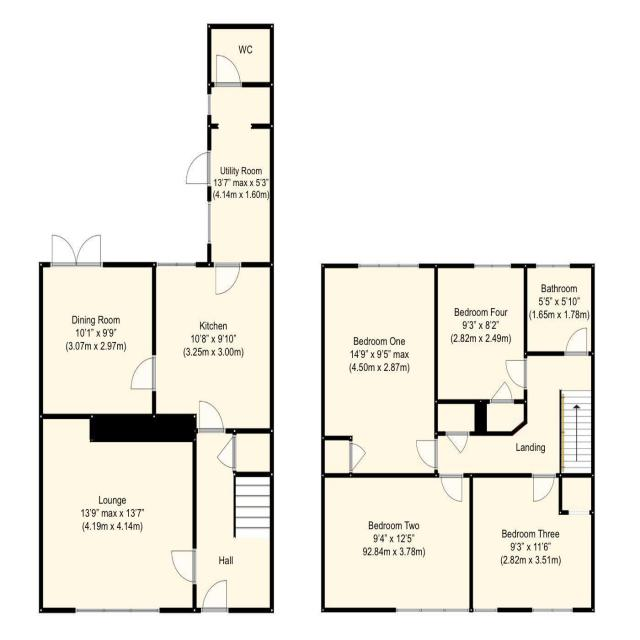DOOR: (170, 547, 197, 586), (185, 148, 211, 188), (130, 354, 157, 392), (200, 579, 229, 613), (213, 261, 242, 295), (214, 54, 243, 88), (198, 400, 226, 433), (530, 472, 557, 503), (563, 326, 589, 357), (505, 356, 528, 391), (415, 437, 438, 471), (438, 473, 464, 503)
DOUBLE DOOR: (50, 233, 103, 267)
ROOM: (39, 413, 197, 614), (130, 262, 274, 442), (321, 263, 438, 478), (39, 233, 157, 443), (321, 473, 473, 613), (469, 473, 595, 613), (434, 264, 528, 404)
WINDOW: (74, 607, 160, 614), (395, 607, 470, 613), (357, 262, 420, 269), (473, 262, 512, 269), (531, 607, 574, 613), (156, 261, 196, 267), (207, 200, 212, 245), (535, 263, 571, 268), (473, 607, 498, 613), (207, 93, 211, 116)
